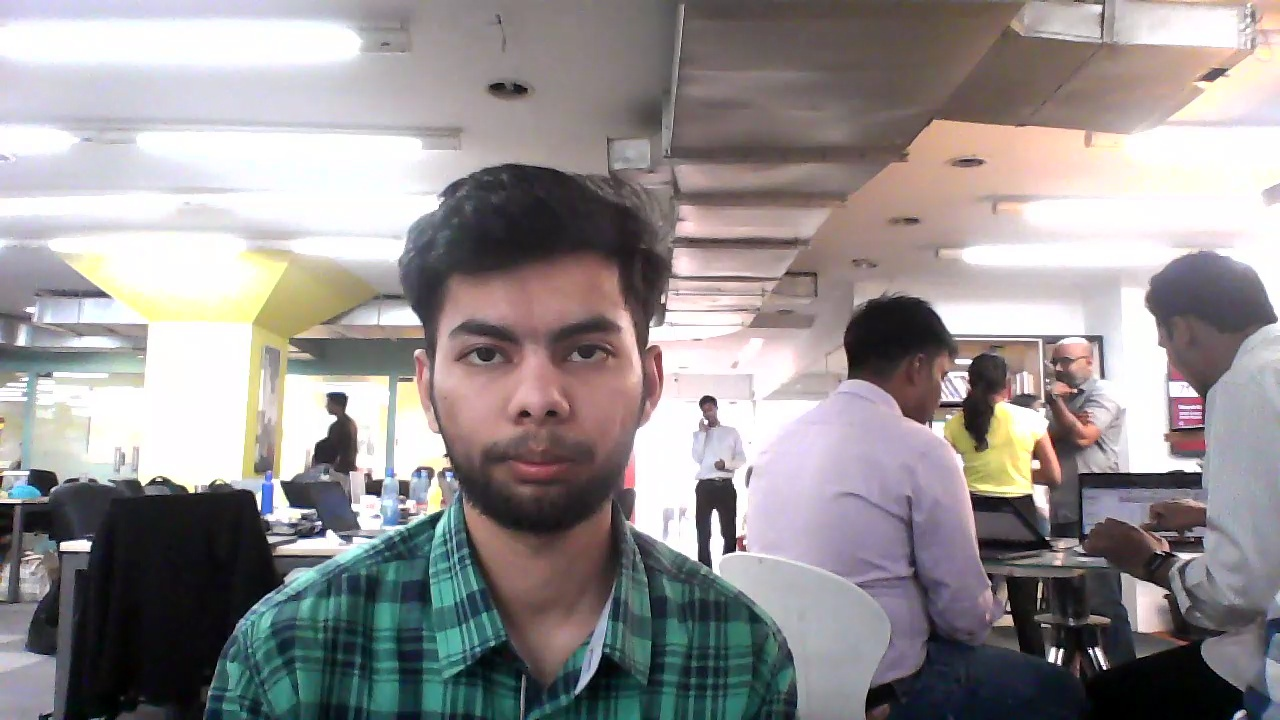open: (400, 160, 671, 542)
